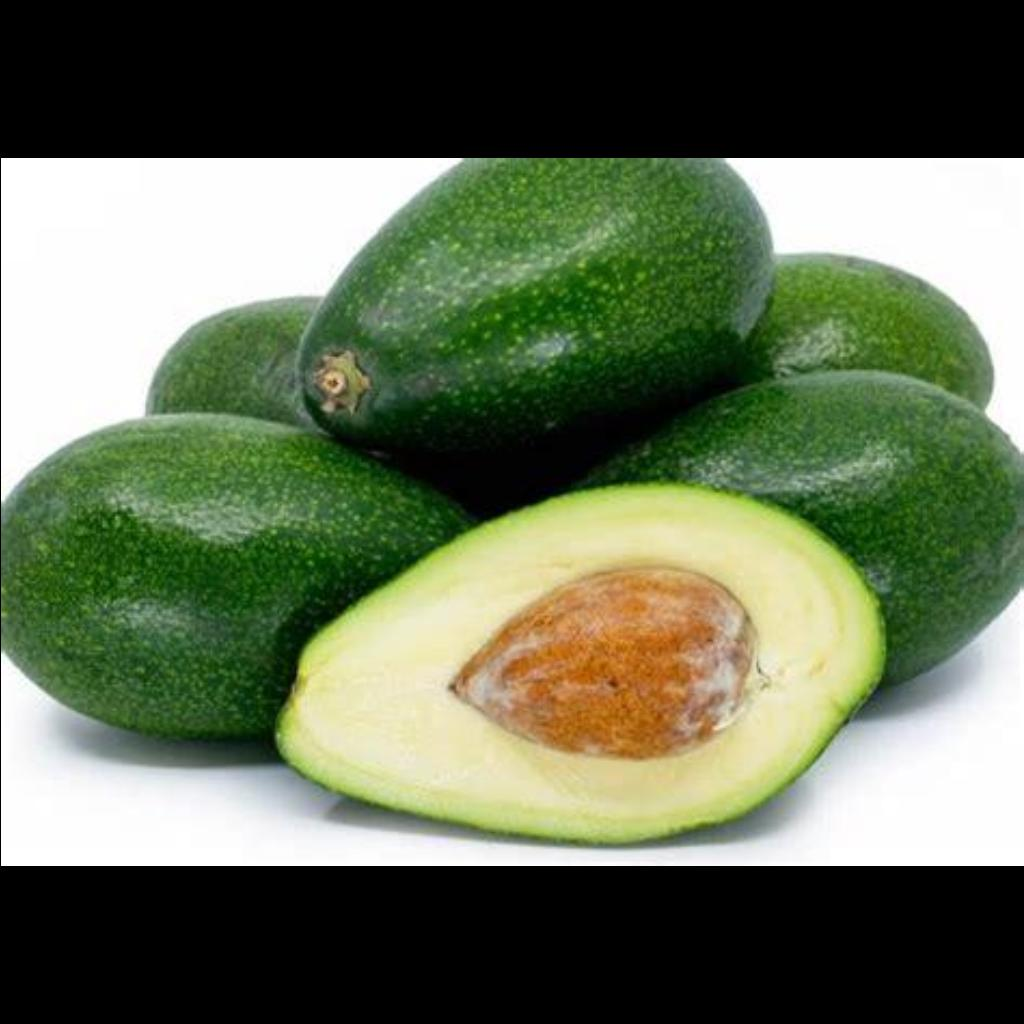fruto_sano: (697, 230, 1023, 705), (14, 417, 446, 771), (307, 169, 767, 428)
